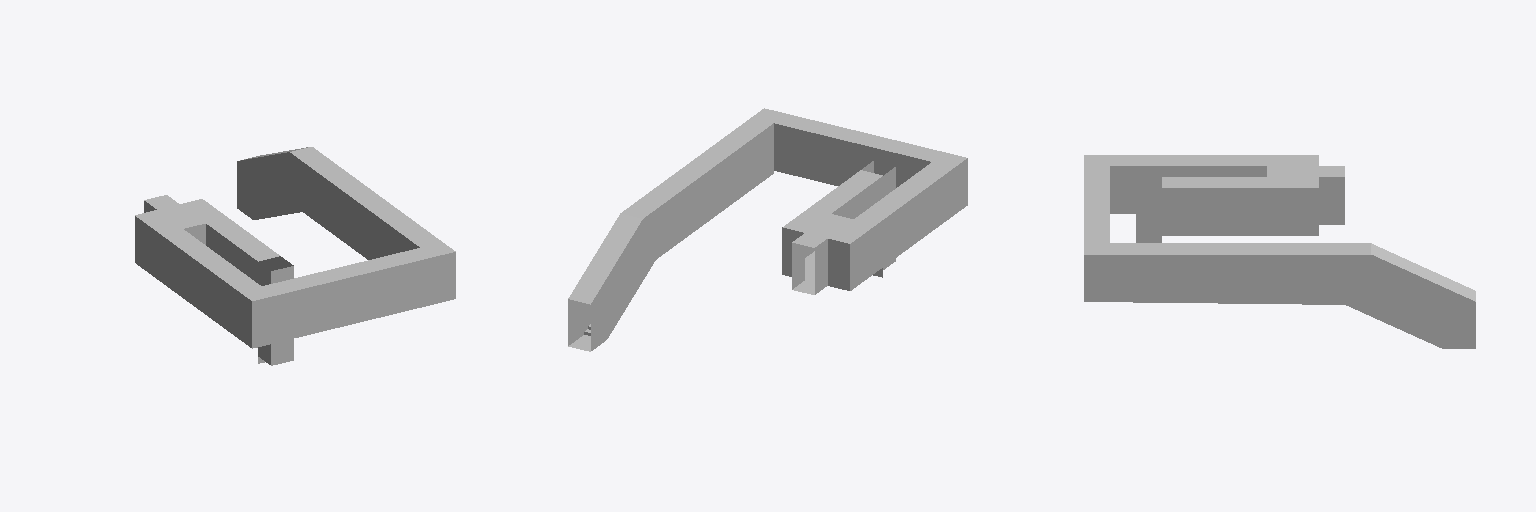
File: floor_hole_alt.obj
3 views of the same model, side by side, from view 1: azimuth 30°, elevation 25°; view 2: azimuth 150°, elevation 25°; view 3: azimuth 270°, elevation 25° (orthographic).
Size of the model in its own units: 900 by 432 by 1500.